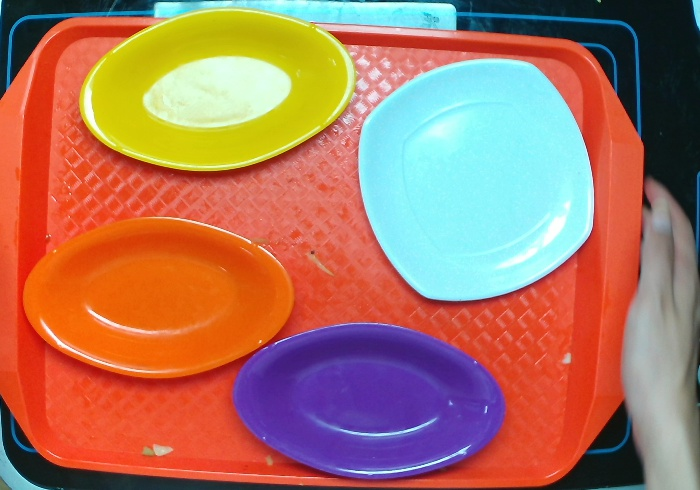RJxy-Fen_Hong_Tuo_Yuan: (231, 320, 506, 481)
RJxy-Huang_Se_Tuo_Yuan: (77, 6, 356, 172)
RJxy-Ju_Huang_Tuo_Yuan: (21, 215, 296, 380)
RJxy-Si_Fang_Die: (356, 56, 596, 303)
